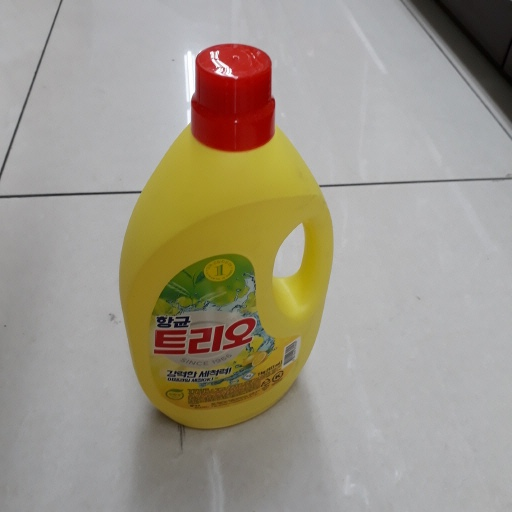Plastic_1: (118, 48, 337, 432)
